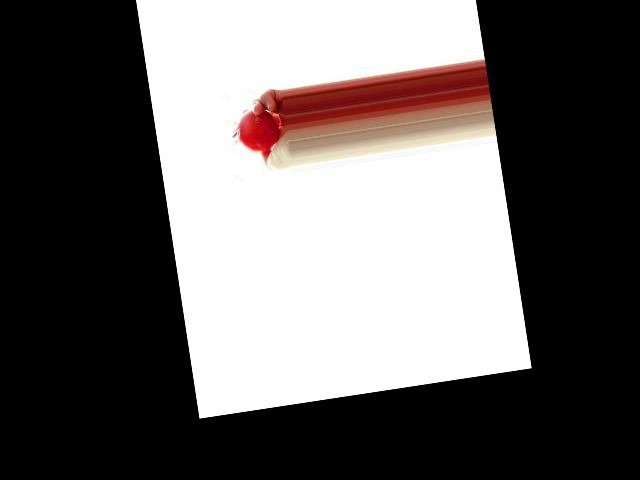tomato: (233, 105, 282, 155)
